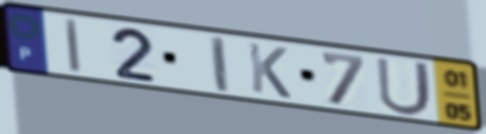2: (105, 23, 163, 85)
7: (318, 48, 368, 109)
I: (208, 34, 233, 95), (63, 16, 84, 76)
K: (245, 40, 294, 101)
U: (373, 55, 435, 118)
